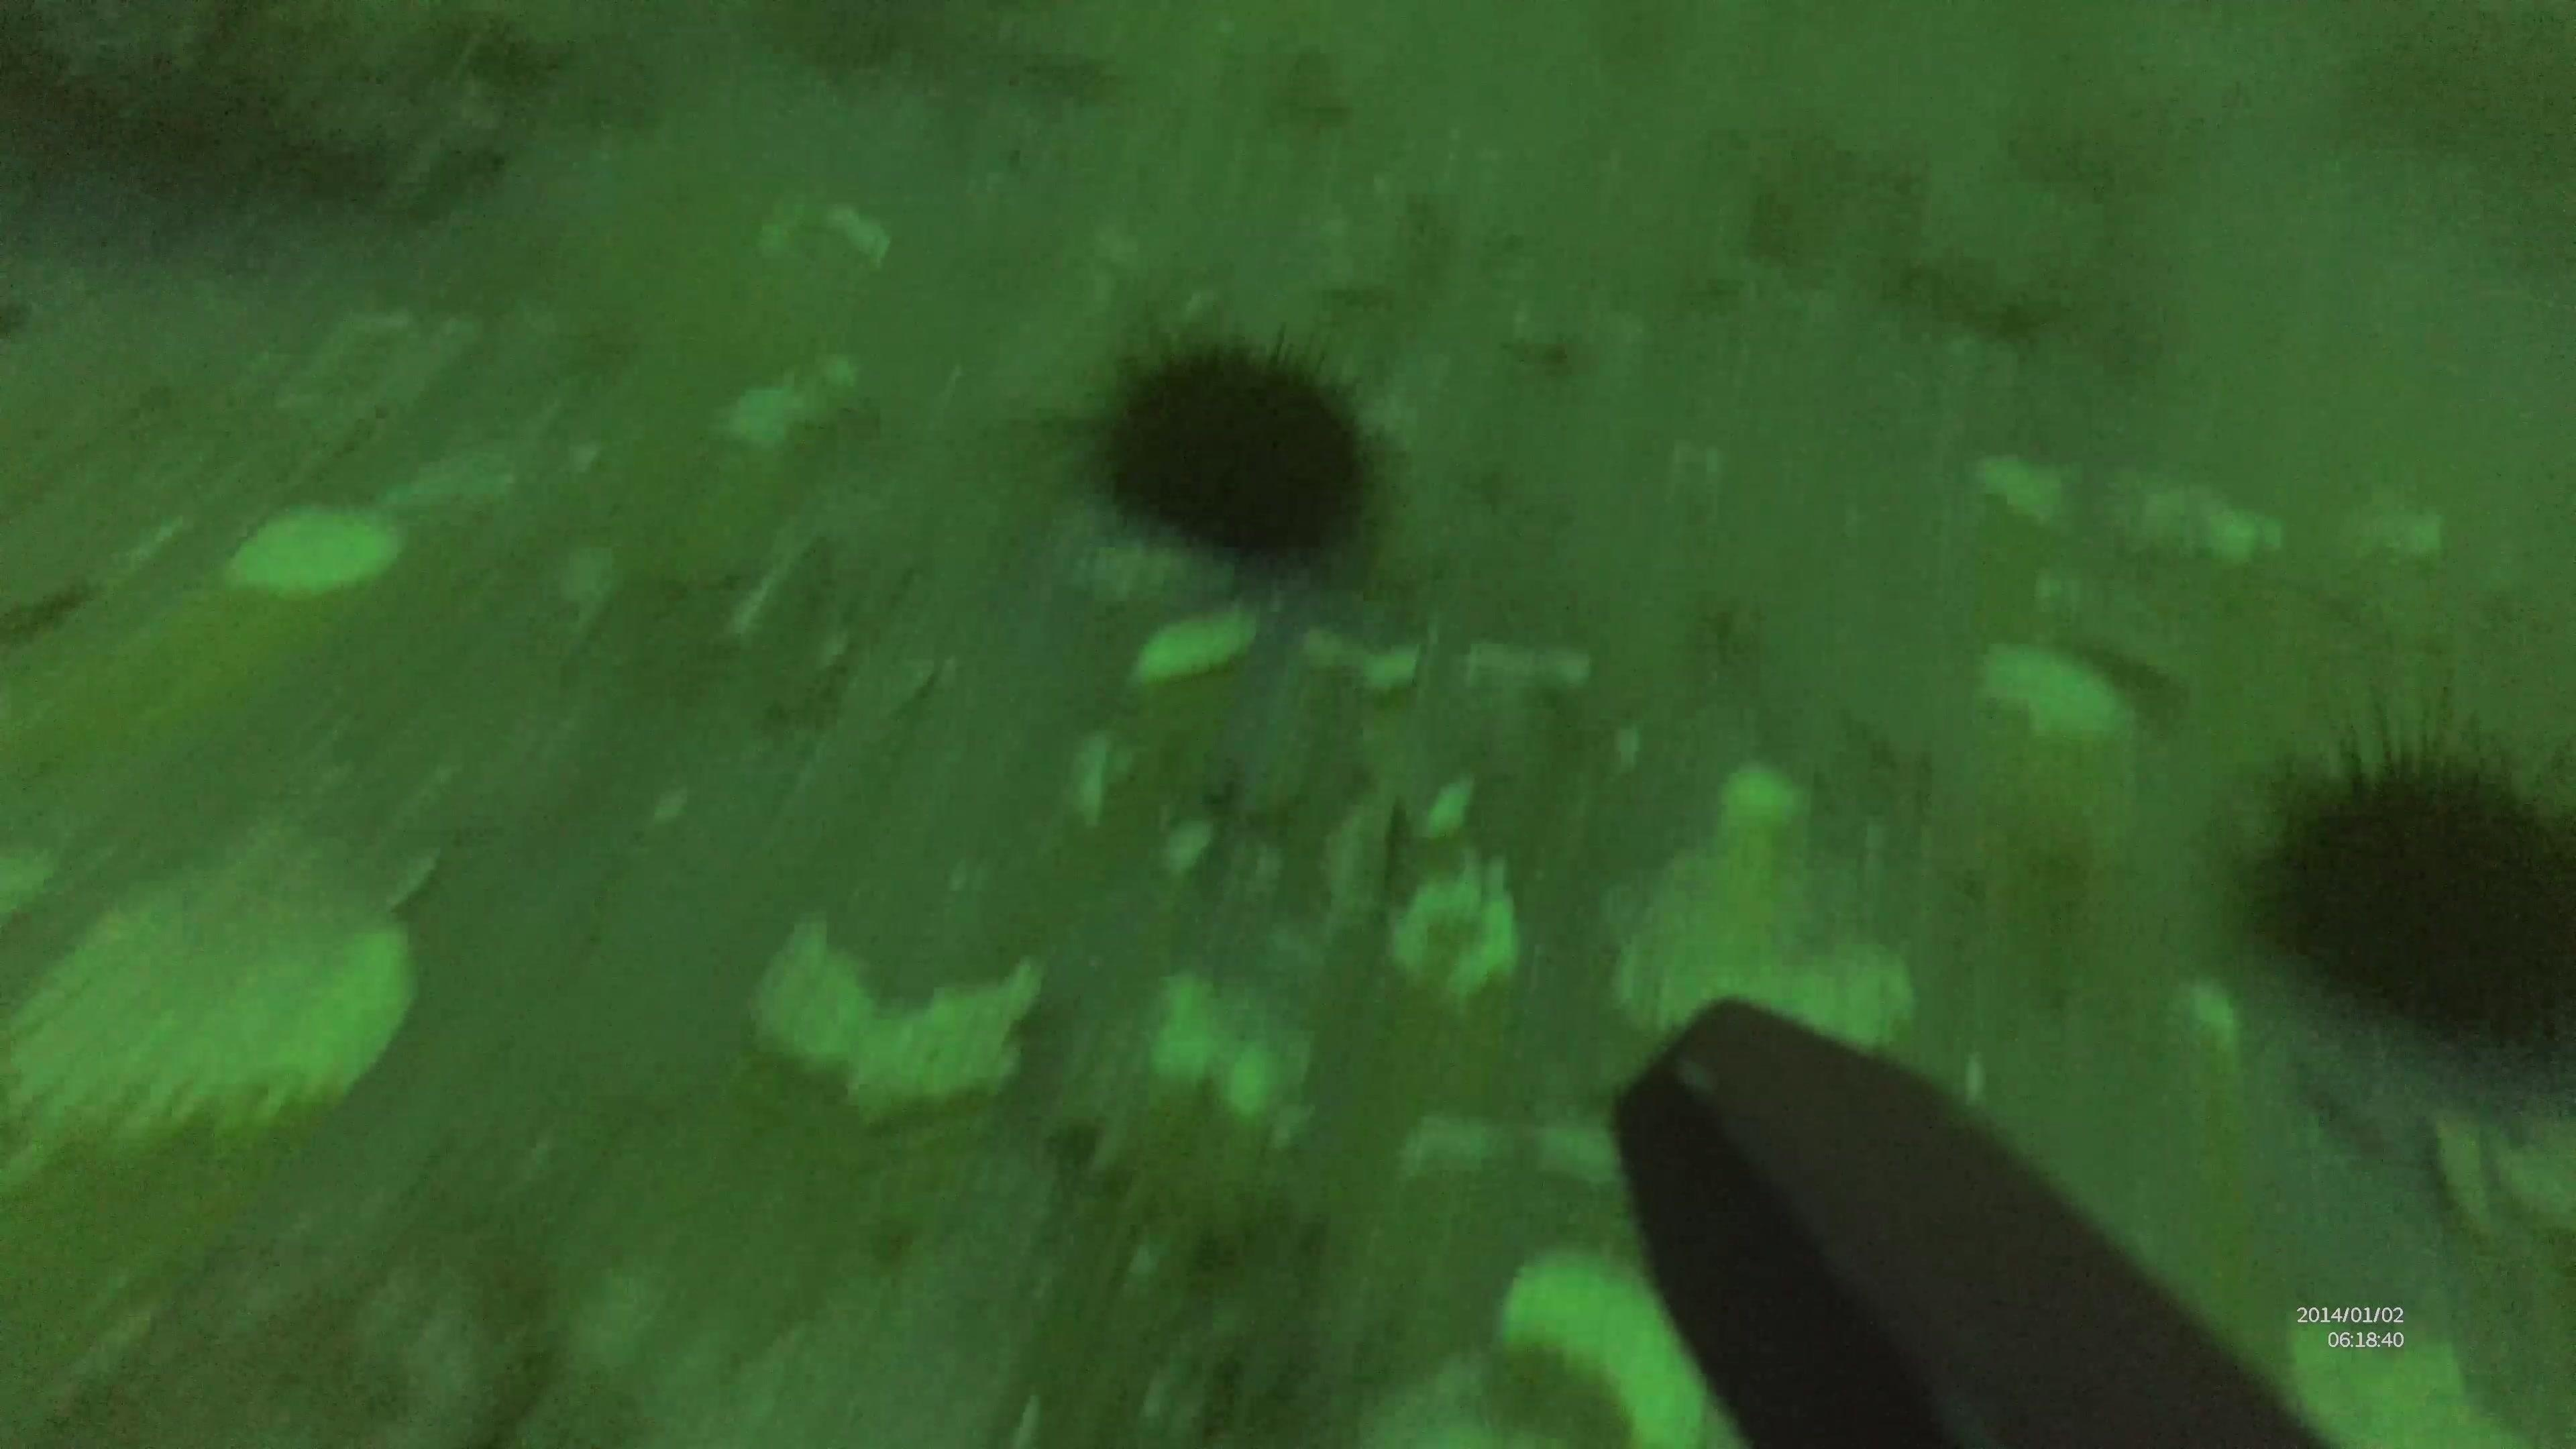echinus: (2235, 702, 2574, 1077), (1079, 322, 1385, 571)
holothurian: (1039, 1008, 1361, 1435)
scallop: (2, 816, 426, 1150), (221, 492, 409, 610)
